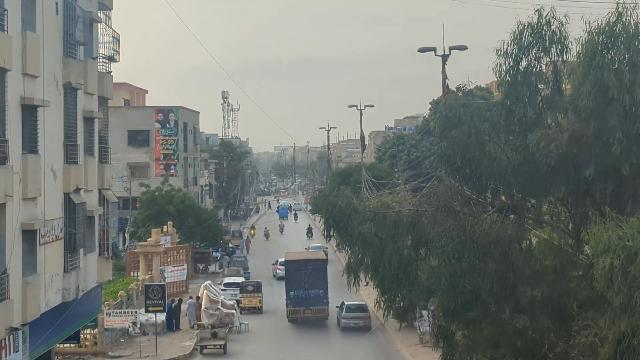Car: (336, 299, 373, 332), (218, 277, 242, 301), (271, 258, 286, 280)
Cart: (194, 326, 231, 356)
Person: (185, 293, 197, 330), (172, 296, 184, 331), (166, 295, 176, 332)
Rickshaw: (237, 280, 265, 315)
Truck: (282, 250, 331, 326)
